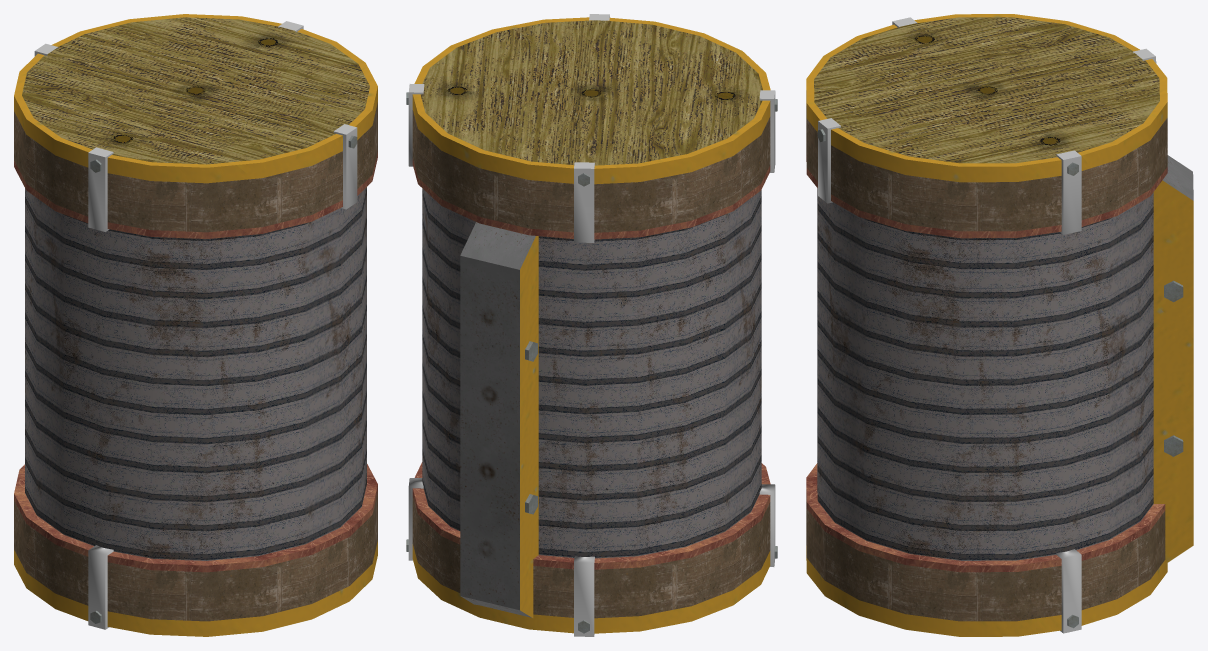
3 renders of one model, left to right at view 1: azimuth 30°, elevation 25°; view 2: azimuth 150°, elevation 25°; view 3: azimuth 270°, elevation 25°, orthographic.
Visible parts, largest first — view 1: Ob_Capsule2_RC; view 2: Ob_Capsule2_RC; view 3: Ob_Capsule2_RC.
Boxes of the visible parts, x1,y1,x2,y2 form: Ob_Capsule2_RC: [14, 14, 377, 636]; Ob_Capsule2_RC: [406, 14, 777, 636]; Ob_Capsule2_RC: [806, 14, 1193, 636].
Size of the model in its own units: 1173 by 1695 by 1257.
